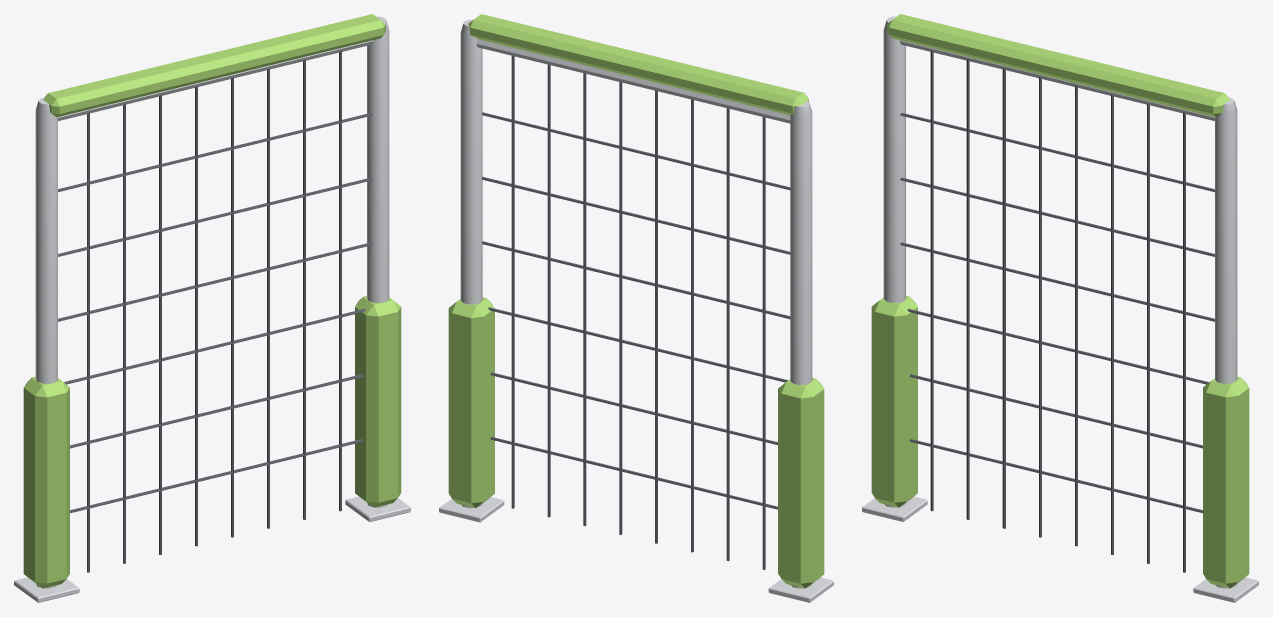
Rendered from trampoline-park-and-soft-play-dodgeball-divider-net-fr-32de753e__34613.glb.
3 views of the same model, side by side, from view 1: azimuth 30°, elevation 25°; view 2: azimuth 150°, elevation 25°; view 3: azimuth 330°, elevation 25° (orthographic).
Visible parts, largest first — view 1: dodgeball-divider-net-frame; view 2: dodgeball-divider-net-frame; view 3: dodgeball-divider-net-frame.
Boxes of the visible parts, x1=… form: dodgeball-divider-net-frame: x1=14, y1=14, x2=410, y2=602; dodgeball-divider-net-frame: x1=439, y1=14, x2=833, y2=602; dodgeball-divider-net-frame: x1=862, y1=14, x2=1258, y2=602.
Size of the model in its own units: 2.12 by 2.68 by 0.24.
